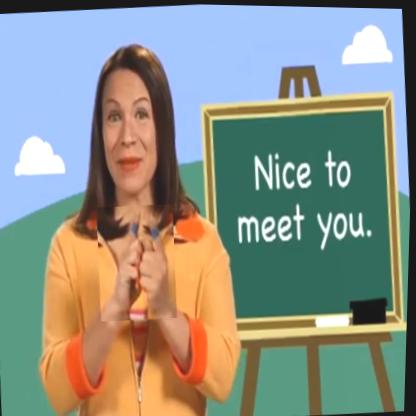NiceToMeetYou: (95, 201, 182, 323)
